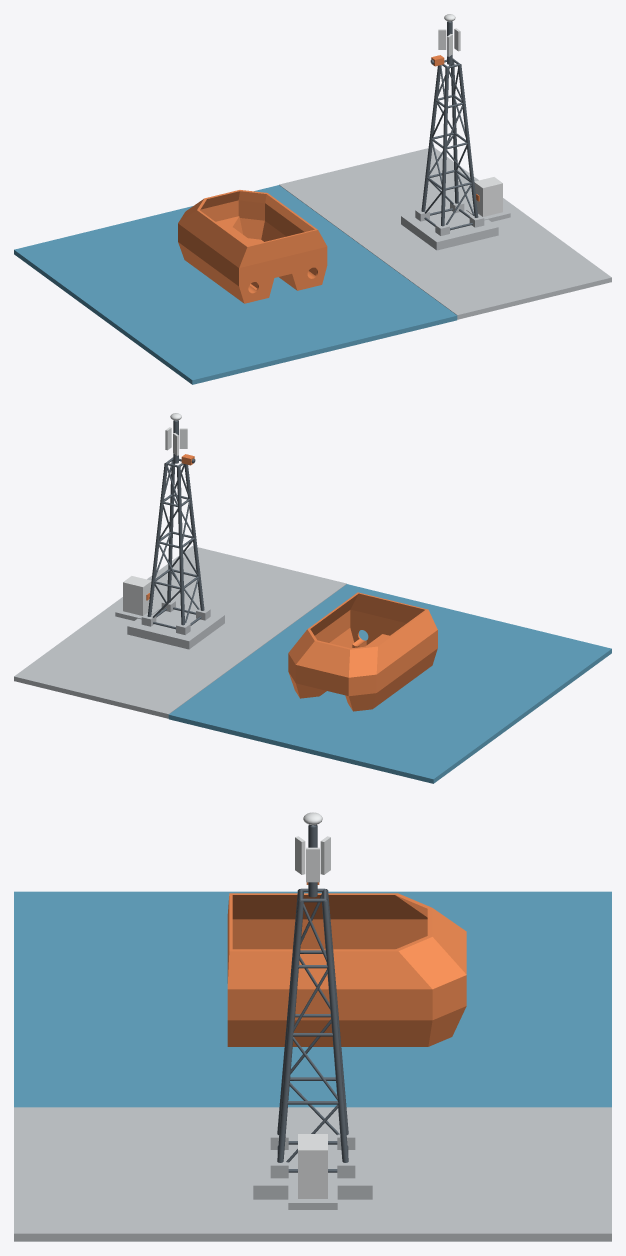
Rendered from RescueSystemModel.glb.
The picture shows the model from 3 angles, top to bottom: view 1: azimuth 30°, elevation 25°; view 2: azimuth 150°, elevation 25°; view 3: azimuth 270°, elevation 25°; orthographic projection. The views are drawn at different scales.
Visible parts, largest first — view 1: Physically_based_base_station, RescueBoat_reference; view 2: Physically_based_base_station, RescueBoat_reference; view 3: Physically_based_base_station, RescueBoat_reference.
Part boxes in pixels (x1,y1,x2,y2): Physically_based_base_station: (14,14,611,384); RescueBoat_reference: (178,190,327,303); Physically_based_base_station: (14,413,611,783); RescueBoat_reference: (288,592,437,711); Physically_based_base_station: (14,812,611,1241); RescueBoat_reference: (227,893,466,1046).
Bounding box in the file's own units: 19 × 9.53 × 14.
